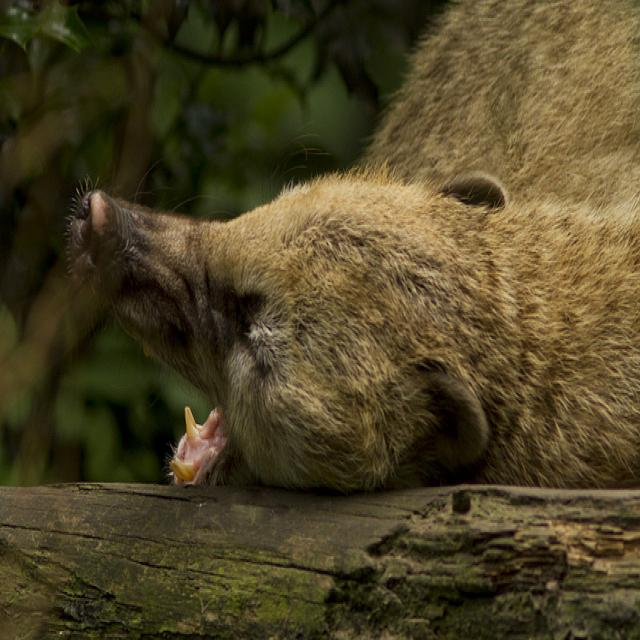Bear: (51, 14, 640, 488)
